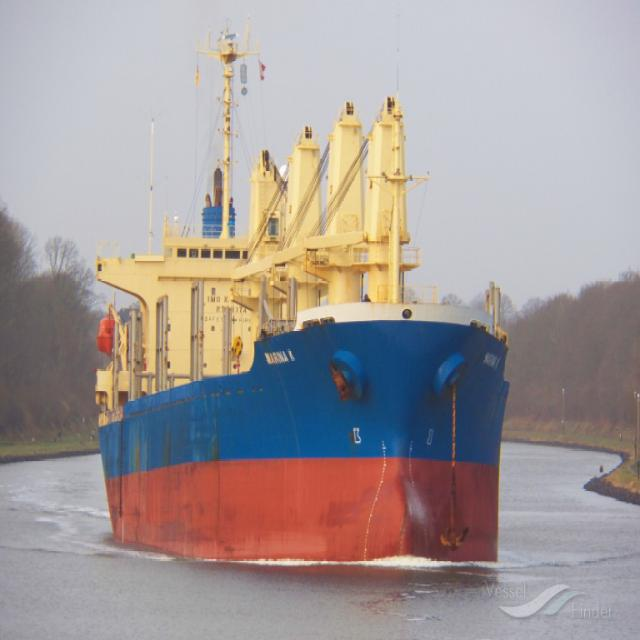OCR: (259, 342, 297, 367), (477, 349, 505, 374)
